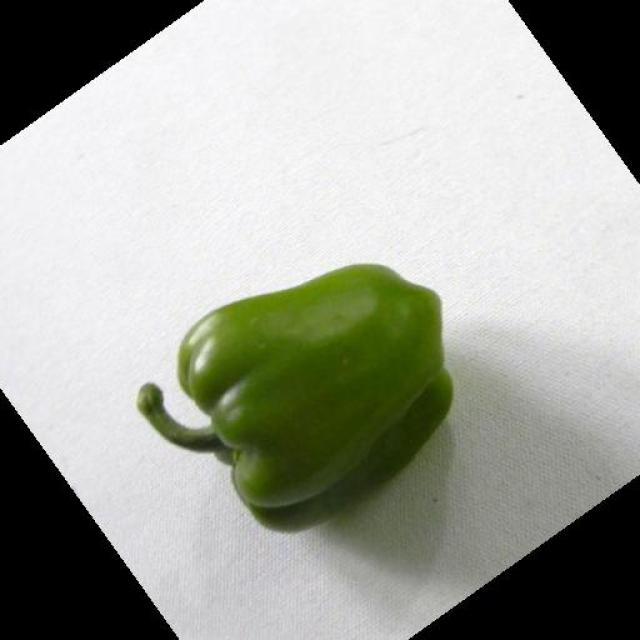Fresh_Capsicum: (165, 266, 462, 536)
